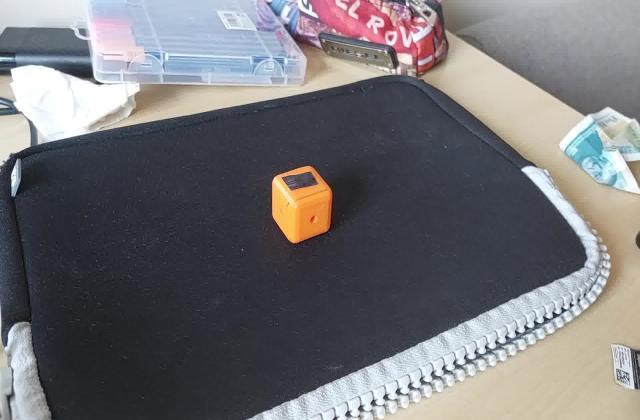black: (278, 171, 318, 193)
cube: (268, 164, 333, 245)
